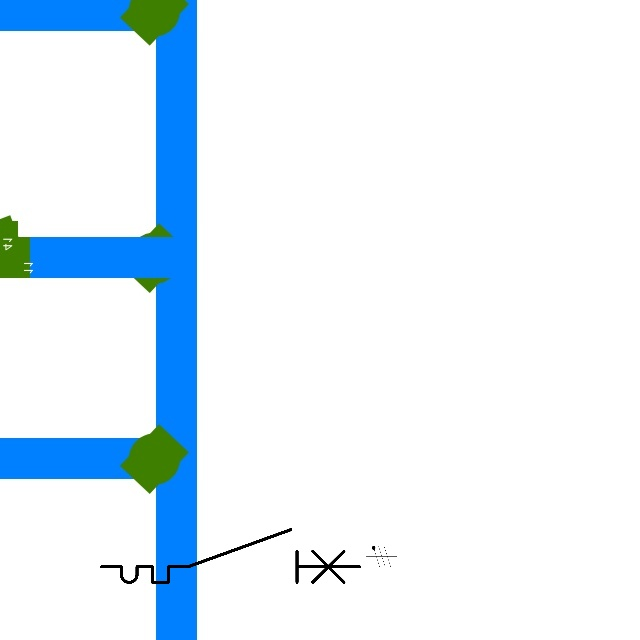interruptor_termomagnetico: (95, 523, 366, 589)
